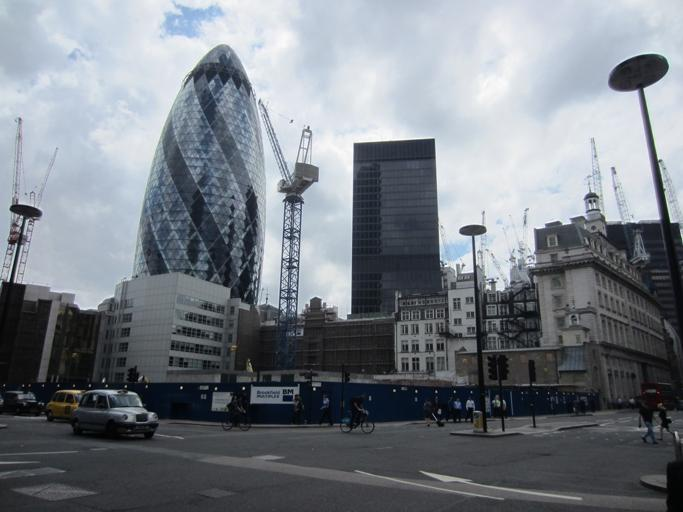non-vehicle: (339, 409, 374, 433), (219, 409, 251, 431)
